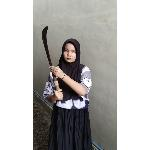Golok: (40, 24, 62, 90)
